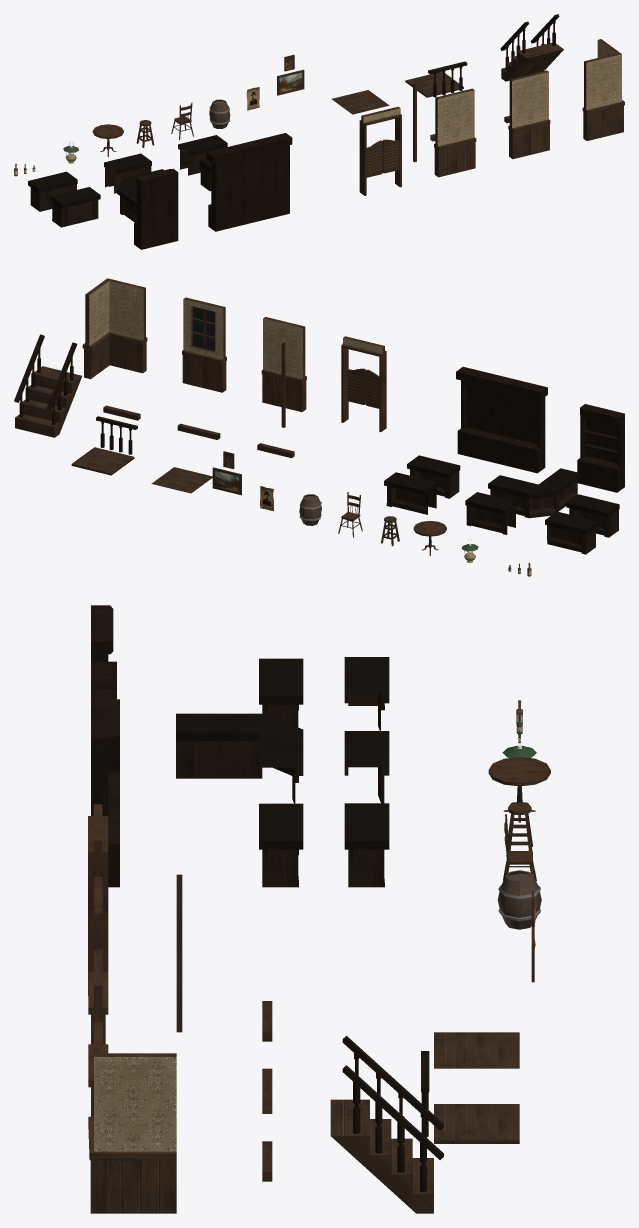
The model's file is SaloonModularKitSplit.fbx.
3 renders of one model, top to bottom at view 1: azimuth 30°, elevation 25°; view 2: azimuth 150°, elevation 25°; view 3: azimuth 270°, elevation 25°, orthographic. The views are drawn at different scales.
Parts seen in each view (by area): view 1: SM_BarShelfMain, SM_WallCorner, SM_Wall, SM_WallWindow, SM_BarShelfSide, SM_BarRightEnd, SM_DoorFrame, SM_Stairs, SM_BarRight, SM_BarCentre, SM_BarLeft, SM_FloorTiles (+12 smaller); view 2: SM_BarShelfMain, SM_WallCorner, SM_WallWindow, SM_BarShelfSide, SM_Wall, SM_BarCorner, SM_Stairs, SM_BarLeft, SM_BarRight, SM_DoorFrame, SM_BarCentre, SM_BarLeftEnd (+13 smaller); view 3: SM_WallCorner, SM_BarCorner, SM_Stairs, SM_BarShelfMain, SM_BarLeft, SM_BarLeftEnd, SM_UpperFloorTile, SM_FloorTiles, SM_BarRightEnd, SM_DoorFrame, SM_BarRight, SM_BanisterStairLeft (+9 smaller).
Boxes of the visible parts, x1,y1,x2,y2 form: SM_BarShelfMain: (206, 133, 292, 231); SM_WallCorner: (582, 39, 624, 140); SM_Wall: (434, 88, 476, 177); SM_WallWindow: (508, 70, 550, 159); SM_BarShelfSide: (134, 168, 178, 249); SM_BarRightEnd: (51, 187, 100, 227); SM_DoorFrame: (359, 106, 401, 195); SM_Stairs: (501, 43, 563, 81); SM_BarRight: (28, 171, 77, 211); SM_BarCentre: (104, 153, 151, 193); SM_BarLeft: (178, 135, 227, 175); SM_FloorTiles: (331, 90, 389, 114); SM_BarShelfMain: (456, 366, 547, 473); SM_WallCorner: (82, 278, 147, 379); SM_WallWindow: (182, 297, 226, 392); SM_BarShelfSide: (577, 404, 624, 492); SM_Wall: (261, 317, 306, 411); SM_BarCorner: (488, 468, 581, 518); SM_Stairs: (15, 366, 82, 437); SM_BarLeft: (384, 472, 437, 514); SM_BarRight: (545, 511, 598, 554); SM_DoorFrame: (341, 336, 386, 431); SM_BarCentre: (465, 492, 516, 534); SM_BarLeftEnd: (407, 455, 460, 498); SM_WallCorner: (88, 1022, 176, 1213); SM_BarCorner: (176, 713, 303, 803); SM_Stairs: (330, 1099, 433, 1213); SM_BarShelfMain: (91, 661, 119, 887); SM_BarLeft: (344, 803, 389, 887); SM_BarLeftEnd: (259, 803, 303, 887); SM_UpperFloorTile: (434, 1104, 519, 1143); SM_FloorTiles: (434, 1032, 519, 1068); SM_BarRightEnd: (259, 658, 303, 727); SM_DoorFrame: (88, 804, 108, 995); SM_BarRight: (344, 657, 389, 730); SM_BanisterStairLeft: (342, 1065, 443, 1192).
Size of the model in its own units: 14.07 by 2.12 by 5.4.
